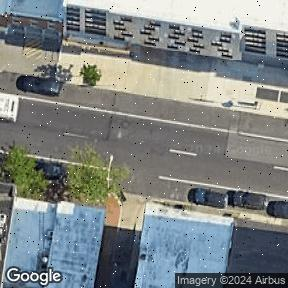vegetation: (59, 140, 134, 210), (0, 139, 59, 216), (80, 64, 100, 86)
